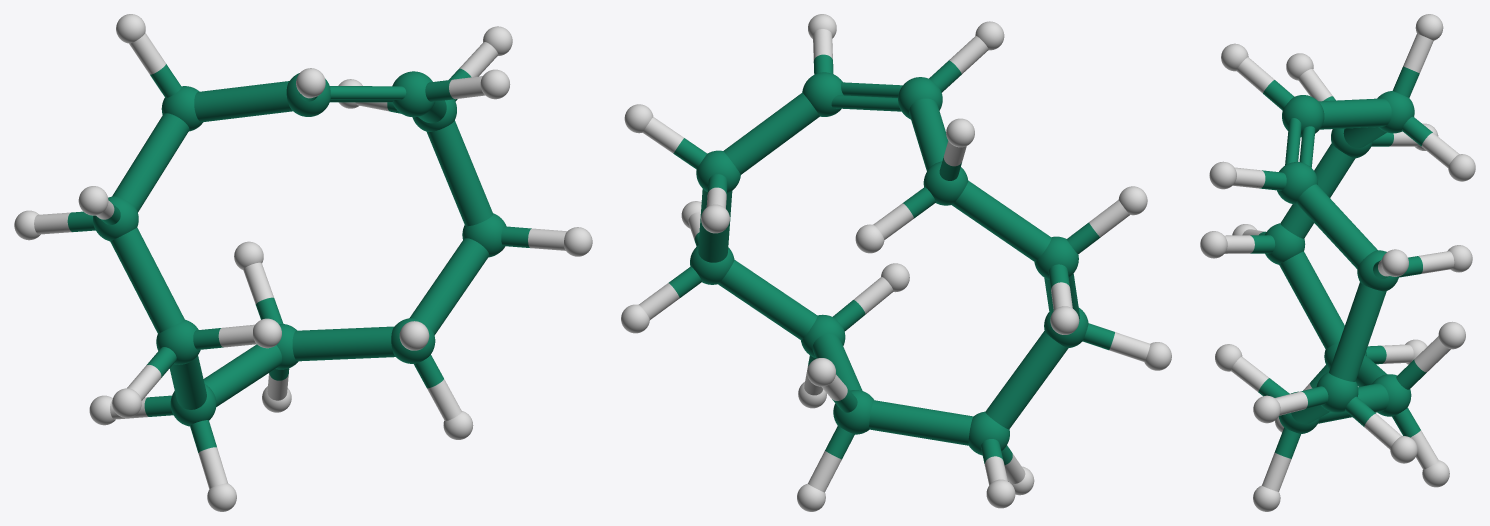
The model's file is CISCYCLODECENE.MOL2.glb.
3 views of the same model, side by side, from view 1: azimuth 30°, elevation 25°; view 2: azimuth 150°, elevation 25°; view 3: azimuth 270°, elevation 25° (orthographic). The views are drawn at different scales.
Size of the model in its own units: 6.31 by 5.49 by 3.3.
